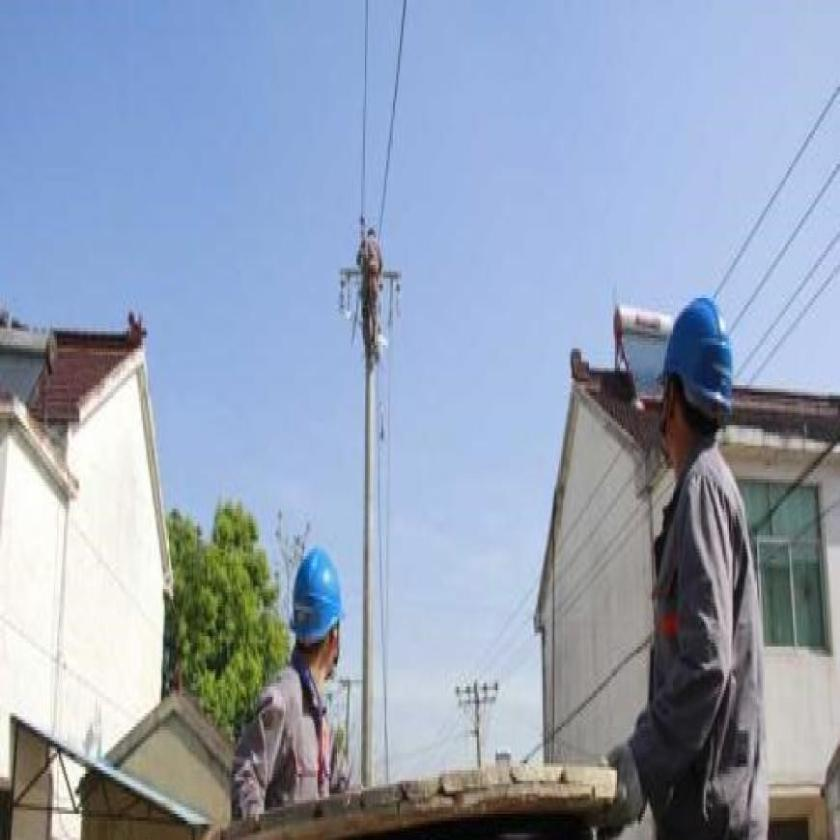Con_casco: (654, 286, 739, 464), (289, 540, 345, 688)
